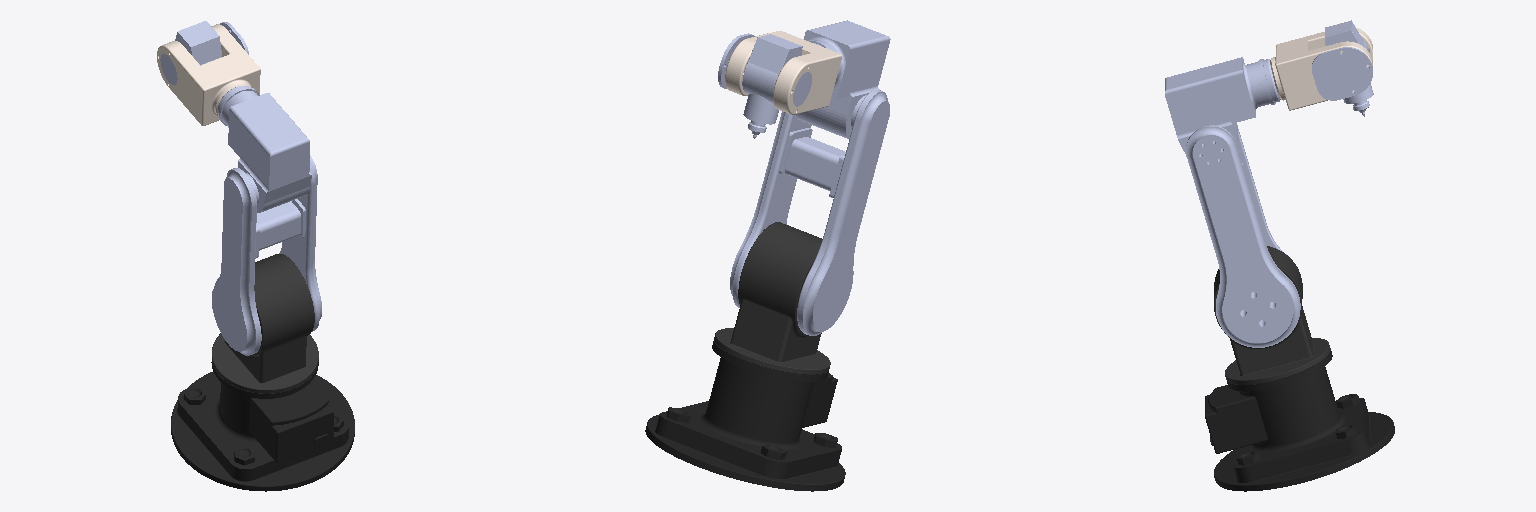
The robot description file, URDF, robot "pkg_4_dof_robotic_arm_10_snapshot_2":
<!--URDF generated by ONSHAPE BY PTC INC, 1.217-->
<robot name="pkg_4_dof_robotic_arm_10_snapshot_2">
    <link name="01__base">
        <inertial>
            <mass value="0.0223896" />
            <origin xyz="1.70649e-05 -0.0280827 0.0929643" rpy="0 -0 0" />
            <inertia ixx="0.000490466" ixy="8.37363e-08" ixz="-1.50147e-08" iyy="0.0004038" iyz="4.7447e-05" izz="0.000587776" />
        </inertial>
        <visual>
            <origin xyz="0 0 0" rpy="0 -0 0" />
            <geometry>
                <mesh filename="package://pkg_4_dof_robotic_arm_10_snapshot_2/meshes/_01__Base.stl" scale="1 1 1" />
            </geometry>
            <material name="0.200000_0.200000_0.200000_0.000000_0.000000">
                <color rgba="0.2 0.2 0.2 1" />
            </material>
        </visual>
    </link>
    <link name="02__link_c33_conne">
        <inertial>
            <mass value="0.00417834" />
            <origin xyz="6.10694e-18 -0.0178967 0.197023" rpy="0 -0 0" />
            <inertia ixx="0.000153998" ixy="0" ixz="0" iyy="0.000163233" iyz="-5.70424e-07" izz="1.04173e-05" />
        </inertial>
        <visual>
            <origin xyz="0 0 0" rpy="0 -0 0" />
            <geometry>
                <mesh filename="package://pkg_4_dof_robotic_arm_10_snapshot_2/meshes/_02__Link_C33_Conne.stl" scale="1 1 1" />
            </geometry>
            <material name="0.796078_0.823529_0.937255_0.000000_0.000000">
                <color rgba="0.796078 0.823529 0.937255 1" />
            </material>
        </visual>
    </link>
    <link name="0_3_link_c22">
        <inertial>
            <mass value="0.0141295" />
            <origin xyz="-5.81054e-13 5.16481e-13 0.0896566" rpy="0 -0 0" />
            <inertia ixx="0.000273047" ixy="1.85702e-15" ixz="0" iyy="0.000299584" iyz="-1.32132e-15" izz="0.000107308" />
        </inertial>
        <visual>
            <origin xyz="0 0 -0.12" rpy="0 -0 0" />
            <geometry>
                <mesh filename="package://pkg_4_dof_robotic_arm_10_snapshot_2/meshes/_0_3_Link_C22.stl" scale="1 1 1" />
            </geometry>
            <material name="0.266667_0.266667_0.266667_0.000000_0.000000">
                <color rgba="0.266667 0.266667 0.266667 1" />
            </material>
        </visual>
    </link>
    <link name="0_4_link_c33">
        <inertial>
            <mass value="0.010704" />
            <origin xyz="1.33201e-07 0.131394 0.200966" rpy="0 6.62806e-07 0" />
            <inertia ixx="0.000496698" ixy="4.13631e-12" ixz="-2.846e-10" iyy="0.000463271" iyz="6.24061e-06" izz="6.73118e-05" />
        </inertial>
        <visual>
            <origin xyz="1.65701e-07 0.09 0.25" rpy="0 6.62806e-07 0" />
            <geometry>
                <mesh filename="package://pkg_4_dof_robotic_arm_10_snapshot_2/meshes/_0_4_Link_C33.stl" scale="1 1 1" />
            </geometry>
            <material name="0.796078_0.823529_0.937255_0.000000_0.000000">
                <color rgba="0.796078 0.823529 0.937255 1" />
            </material>
        </visual>
    </link>
    <link name="0_5_tool_holder">
        <inertial>
            <mass value="0.00737733" />
            <origin xyz="0.0385082 0.08 0.0987897" rpy="0 -0 0" />
            <inertia ixx="4.95139e-05" ixy="0" ixz="-9.05418e-06" iyy="8.32835e-05" iyz="-2.98545e-15" izz="5.9108e-05" />
        </inertial>
        <visual>
            <origin xyz="0.0319158 0.08 0.0544511" rpy="0 -0 0" />
            <geometry>
                <mesh filename="package://pkg_4_dof_robotic_arm_10_snapshot_2/meshes/_0_5_Tool_Holder.stl" scale="1 1 1" />
            </geometry>
            <material name="0.796078_0.823529_0.937255_0.000000_0.000000">
                <color rgba="0.796078 0.823529 0.937255 1" />
            </material>
        </visual>
    </link>
    <link name="0_6_revolver">
        <inertial>
            <mass value="0.00513812" />
            <origin xyz="0.0979277 -1.05792e-18 -6.31076e-18" rpy="0 -0 0" />
            <inertia ixx="2.90971e-05" ixy="0" ixz="0" iyy="3.82602e-05" iyz="0" izz="4.82803e-05" />
        </inertial>
        <visual>
            <origin xyz="0.22 0 0" rpy="0 -0 0" />
            <geometry>
                <mesh filename="package://pkg_4_dof_robotic_arm_10_snapshot_2/meshes/_0_6_Revolver.stl" scale="1 1 1" />
            </geometry>
            <material name="1.000000_0.949020_0.909804_0.000000_0.000000">
                <color rgba="1 0.94902 0.909804 1" />
            </material>
        </visual>
    </link>
    <link name="0_7_combiner">
        <inertial>
            <mass value="0.00187461" />
            <origin xyz="-0.00201824 -0.118219 -3.38884e-19" rpy="0 -0 0" />
            <inertia ixx="9.84693e-06" ixy="-3.66164e-07" ixz="0" iyy="2.94428e-06" iyz="0" izz="1.00202e-05" />
        </inertial>
        <visual>
            <origin xyz="0 -0.105 0" rpy="0 -0 0" />
            <geometry>
                <mesh filename="package://pkg_4_dof_robotic_arm_10_snapshot_2/meshes/_0_7_Combiner.stl" scale="1 1 1" />
            </geometry>
            <material name="0.796078_0.823529_0.937255_0.000000_0.000000">
                <color rgba="0.796078 0.823529 0.937255 1" />
            </material>
        </visual>
    </link>
    <link name="0_8_cutter">
        <inertial>
            <mass value="0.00136397" />
            <origin xyz="0.0082759 -0.05 -1.10973e-06" rpy="0 -0 0" />
            <inertia ixx="2.43545e-06" ixy="0" ixz="-1.07355e-10" iyy="8.93381e-06" iyz="0" izz="8.4347e-06" />
        </inertial>
        <visual>
            <origin xyz="0 -0.05 0" rpy="0 -0 0" />
            <geometry>
                <mesh filename="package://pkg_4_dof_robotic_arm_10_snapshot_2/meshes/_0_8_Cutter.stl" scale="1 1 1" />
            </geometry>
            <material name="0.796078_0.823529_0.937255_0.000000_0.000000">
                <color rgba="0.796078 0.823529 0.937255 1" />
            </material>
        </visual>
    </link>
    <link name="root" />
    <joint name="fastened_1" type="fixed">
        <origin xyz="0 -2.22045e-16 0.29" rpy="-2.08167e-16 1.80411e-16 1.5708" />
        <axis xyz="0 0 -1" />
        <parent link="01__base" />
        <child link="0_3_link_c22" />
    </joint>
    <joint name="fastened_2" type="fixed">
        <origin xyz="0.22 0.1 -2.22045e-16" rpy="2.77556e-17 -5.55112e-17 -2.08167e-17" />
        <axis xyz="0 1 0" />
        <parent link="0_6_revolver" />
        <child link="0_7_combiner" />
    </joint>
    <joint name="fastened_3" type="fixed">
        <origin xyz="-1.11022e-16 1.55431e-15 1.42109e-14" rpy="1.60982e-15 6.62806e-07 -1.07552e-16" />
        <axis xyz="0 1 0" />
        <parent link="0_4_link_c33" />
        <child link="02__link_c33_conne" />
    </joint>
    <joint name="fixed_node_to_root_joint" type="fixed">
        <origin xyz="-1.26658 -0.882823 -0.296737" rpy="0.277545 -0.134555 -0.00551775" />
        <axis xyz="0 0 1" />
        <parent link="root" />
        <child link="01__base" />
    </joint>
    <joint name="revolute_1" type="continuous">
        <origin xyz="1.11022e-16 -0.09 0.216" rpy="-4.16334e-17 5.55112e-17 -8.08891e-33" />
        <axis xyz="0 1 0" />
        <parent link="0_3_link_c22" />
        <child link="0_4_link_c33" />
    </joint>
    <joint name="revolute_2" type="continuous">
        <origin xyz="3.31403e-07 6.66134e-16 0.5" rpy="-4.16334e-17 6.62806e-07 6.93888e-18" />
        <axis xyz="0 1 0" />
        <parent link="0_4_link_c33" />
        <child link="0_5_tool_holder" />
    </joint>
    <joint name="revolute_3" type="continuous">
        <origin xyz="0.231916 0.08 0.129451" rpy="1.38778e-17 -2.77556e-17 -6.93889e-18" />
        <axis xyz="-1 0 0" />
        <parent link="0_5_tool_holder" />
        <child link="0_6_revolver" />
    </joint>
    <joint name="revolute_4" type="continuous">
        <origin xyz="0.22 0.05 0" rpy="0 1.5708 -6.93889e-18" />
        <axis xyz="0 1 0" />
        <parent link="0_6_revolver" />
        <child link="0_8_cutter" />
    </joint>
</robot>

--- Facts derived from the render (not from the file) ---
The picture shows the robot from 3 angles, left to right: view 1: azimuth 30°, elevation 25°; view 2: azimuth 150°, elevation 25°; view 3: azimuth 270°, elevation 25°; orthographic projection.
Model pkg_4_dof_robotic_arm_10_snapshot_2 with 9 links and 8 joints (4 continuous, 4 fixed), rooted at root, posed every joint at zero.
Links seen in each view (by area): view 1: 01__base, 0_3_link_c22, 0_4_link_c33, 0_5_tool_holder, 0_6_revolver, 02__link_c33_conne, 0_8_cutter, 0_7_combiner; view 2: 01__base, 0_4_link_c33, 0_3_link_c22, 0_5_tool_holder, 0_6_revolver, 02__link_c33_conne, 0_8_cutter, 0_7_combiner; view 3: 01__base, 02__link_c33_conne, 0_5_tool_holder, 0_3_link_c22, 0_6_revolver, 0_7_combiner, 0_8_cutter, 0_4_link_c33.
Boxes of the visible links, x1,y1,x2,y2 form: 01__base: (171, 362, 354, 491); 0_3_link_c22: (212, 254, 318, 393); 0_4_link_c33: (212, 168, 300, 355); 0_5_tool_holder: (217, 86, 311, 212); 0_6_revolver: (157, 24, 260, 125); 02__link_c33_conne: (279, 155, 321, 331); 0_8_cutter: (175, 21, 221, 65); 0_7_combiner: (160, 22, 248, 84); 01__base: (645, 341, 845, 491); 0_4_link_c33: (785, 90, 889, 335); 0_3_link_c22: (714, 222, 830, 374); 0_5_tool_holder: (796, 20, 890, 138); 0_6_revolver: (725, 31, 841, 114); 02__link_c33_conne: (730, 111, 812, 307); 0_8_cutter: (742, 34, 802, 138); 0_7_combiner: (718, 33, 811, 106); 01__base: (1205, 350, 1394, 491); 02__link_c33_conne: (1186, 125, 1300, 347); 0_5_tool_holder: (1165, 57, 1280, 156); 0_3_link_c22: (1214, 246, 1330, 384); 0_6_revolver: (1270, 28, 1372, 110); 0_7_combiner: (1312, 47, 1372, 100); 0_8_cutter: (1325, 20, 1373, 116); 0_4_link_c33: (1237, 125, 1286, 322).
Bounding box of the posed robot: 0.5476 × 0.6781 × 1.4 m (x, y, z).
Meshes: 8 distinct files referenced, 8 mesh visuals loaded (8 binary STL).
